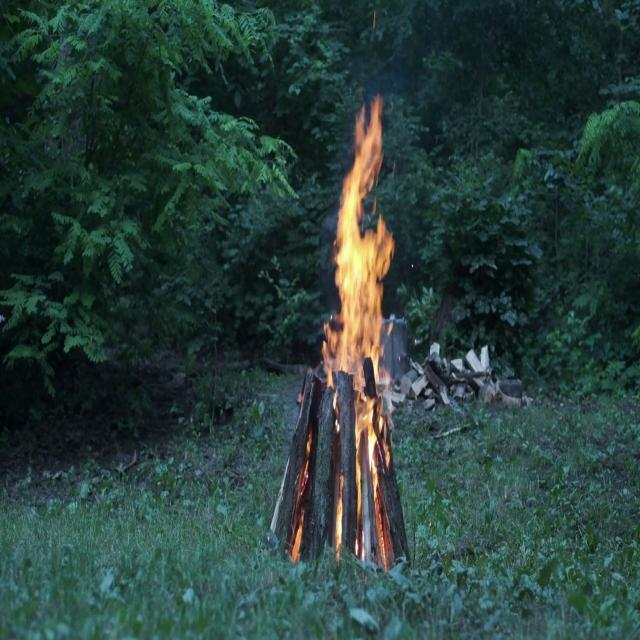Fire: (319, 79, 402, 543)
